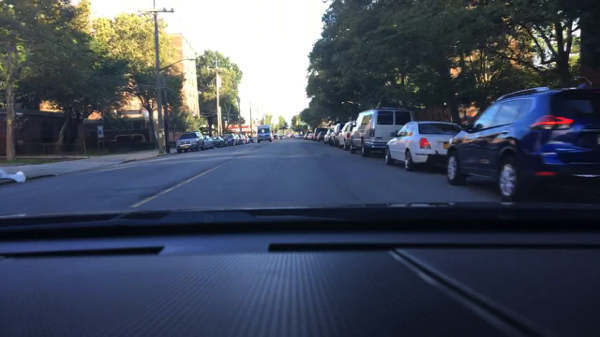car: (445, 84, 599, 203), (385, 120, 463, 172), (349, 107, 412, 156), (176, 131, 205, 153), (338, 121, 355, 150), (331, 123, 344, 147), (209, 135, 225, 148), (222, 133, 238, 145), (312, 127, 325, 141), (316, 127, 328, 142), (324, 126, 334, 144), (202, 135, 214, 150), (238, 132, 247, 145), (235, 134, 245, 144), (307, 131, 314, 140), (244, 135, 250, 144), (304, 131, 310, 140), (295, 134, 302, 139)
traffic sign: (215, 74, 222, 88), (208, 66, 219, 70)
truck: (257, 125, 273, 143)
